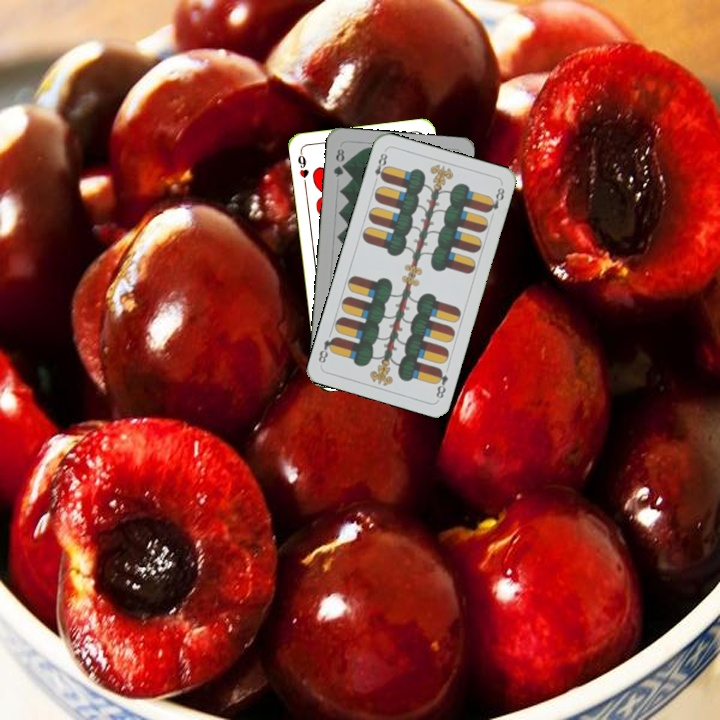E8: (370, 149, 390, 187), (431, 364, 451, 401)
G8: (329, 144, 348, 180)
H9: (294, 148, 311, 188)
